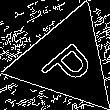P_NE: (33, 31, 99, 92)
